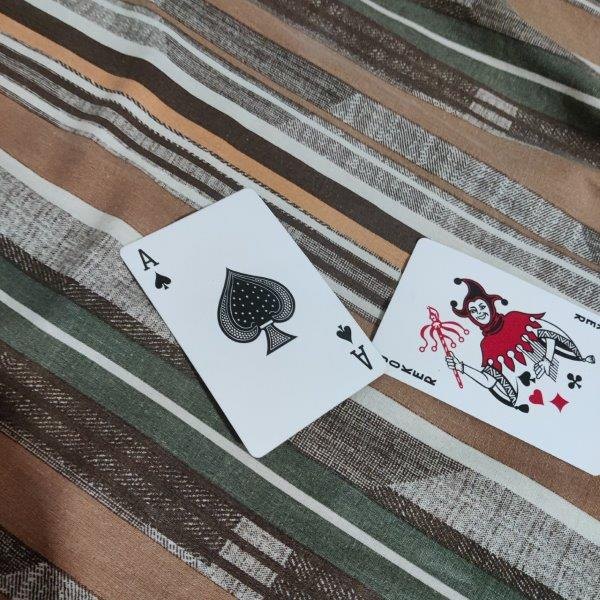Ace of Spades: (120, 187, 390, 459)
Joker: (371, 237, 600, 477)
